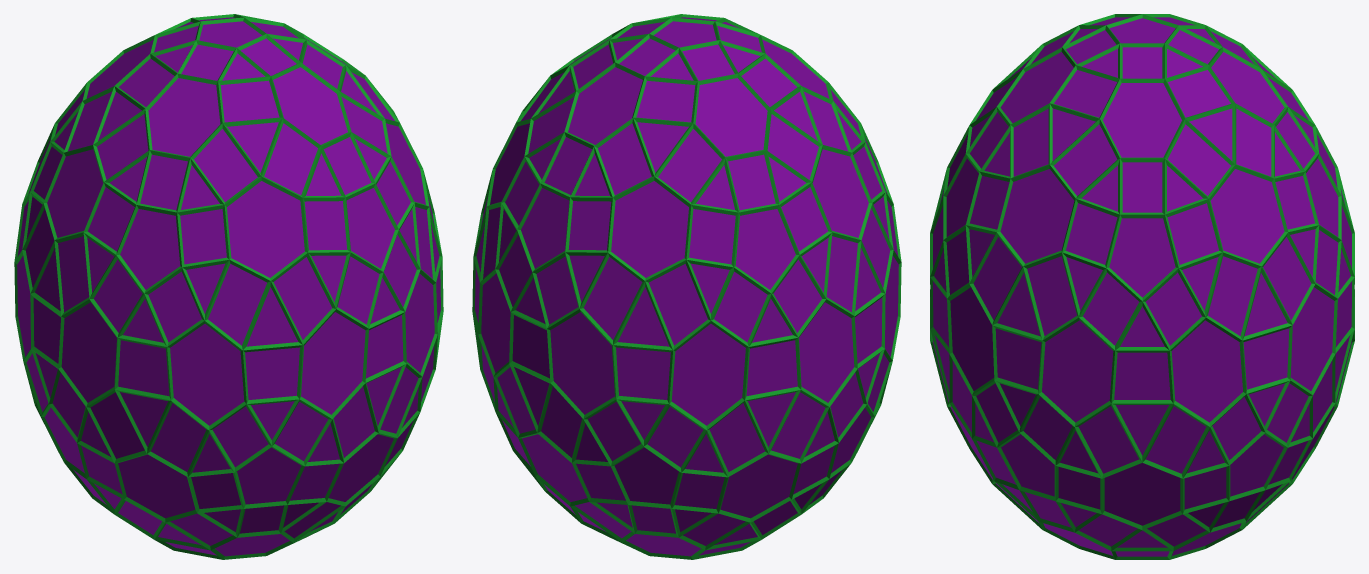
Rendered from Alienegg.fbx.
3 renders of one model, left to right at view 1: azimuth 30°, elevation 25°; view 2: azimuth 150°, elevation 25°; view 3: azimuth 270°, elevation 25°, orthographic.
Visible parts, largest first — view 1: Icosphere.001, Icosphere; view 2: Icosphere.001, Icosphere; view 3: Icosphere.001, Icosphere.
Boxes of the visible parts, left/top/right/bottom form: Icosphere.001: left=17, top=17, right=440, bottom=556; Icosphere: left=14, top=14, right=443, bottom=559; Icosphere.001: left=475, top=17, right=898, bottom=556; Icosphere: left=472, top=14, right=901, bottom=559; Icosphere.001: left=933, top=17, right=1351, bottom=556; Icosphere: left=930, top=14, right=1354, bottom=559.
Size of the model in its own units: 189 by 250 by 187.
